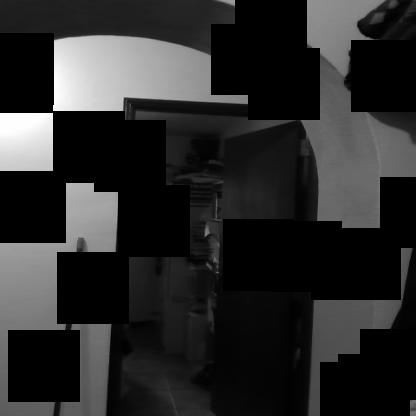Porte: (102, 96, 322, 416)
